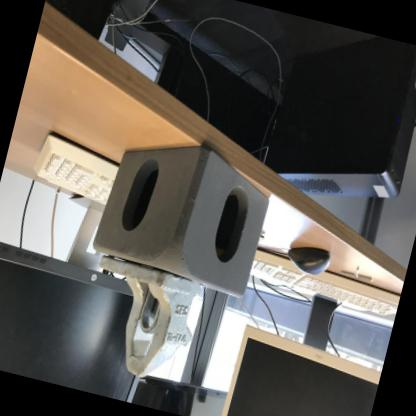CornerCasting: (85, 122, 284, 301)
Twistlock: (68, 250, 210, 390)
